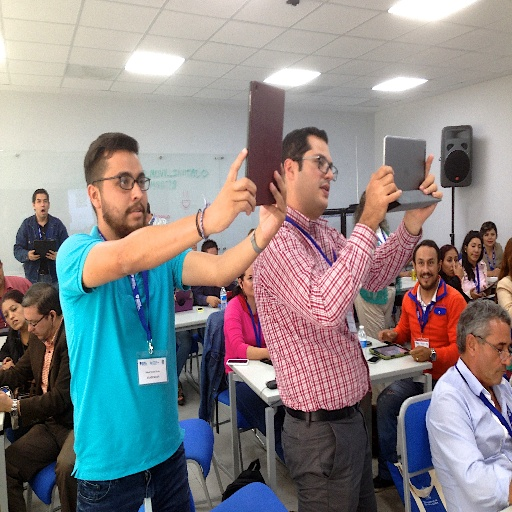hand: (204, 160, 260, 228), (405, 151, 442, 222), (258, 162, 286, 239), (365, 165, 401, 222), (377, 327, 397, 345), (409, 343, 430, 360), (0, 389, 9, 412), (451, 263, 464, 278), (468, 285, 483, 298), (205, 295, 221, 307), (28, 247, 40, 262), (0, 359, 14, 369), (44, 249, 56, 258), (492, 265, 500, 277), (1, 356, 11, 364), (172, 291, 177, 307), (401, 269, 411, 277), (266, 345, 271, 359), (483, 283, 488, 289)
